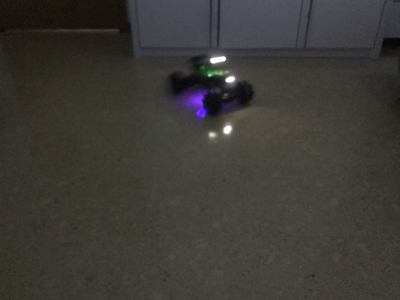remote control car: (168, 50, 255, 116)
